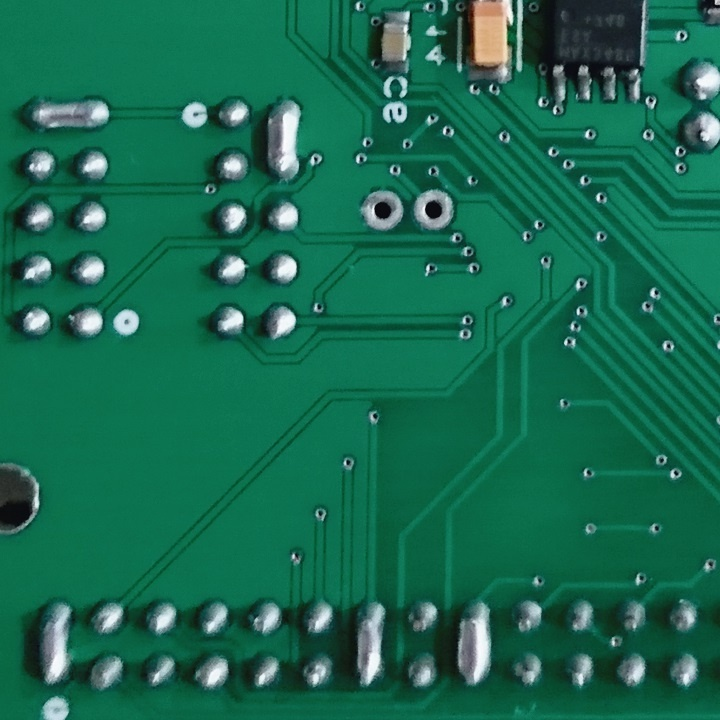F: (408, 184, 458, 234), (358, 184, 406, 234)
P: (452, 596, 499, 695), (348, 595, 390, 695), (19, 95, 115, 135), (261, 95, 304, 183), (35, 596, 73, 691)
